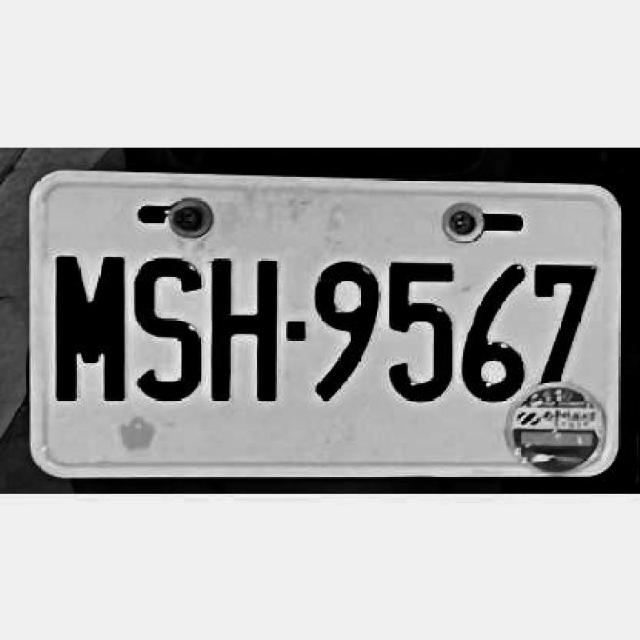-: (284, 320, 304, 342)
5: (383, 254, 457, 401)
6: (462, 263, 530, 405)
7: (535, 265, 597, 392)
9: (311, 253, 383, 402)
H: (204, 250, 282, 408)
M: (54, 248, 129, 404)
S: (130, 254, 202, 400)
